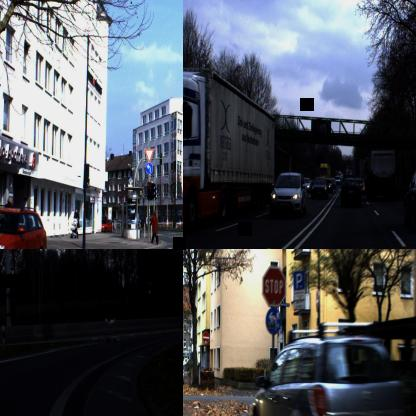NO ENTRY: (202, 332, 210, 343)
STOP: (262, 266, 286, 307)
give way: (176, 274, 183, 308), (144, 148, 154, 164)
go left or straight: (265, 306, 281, 334), (145, 162, 153, 174)
